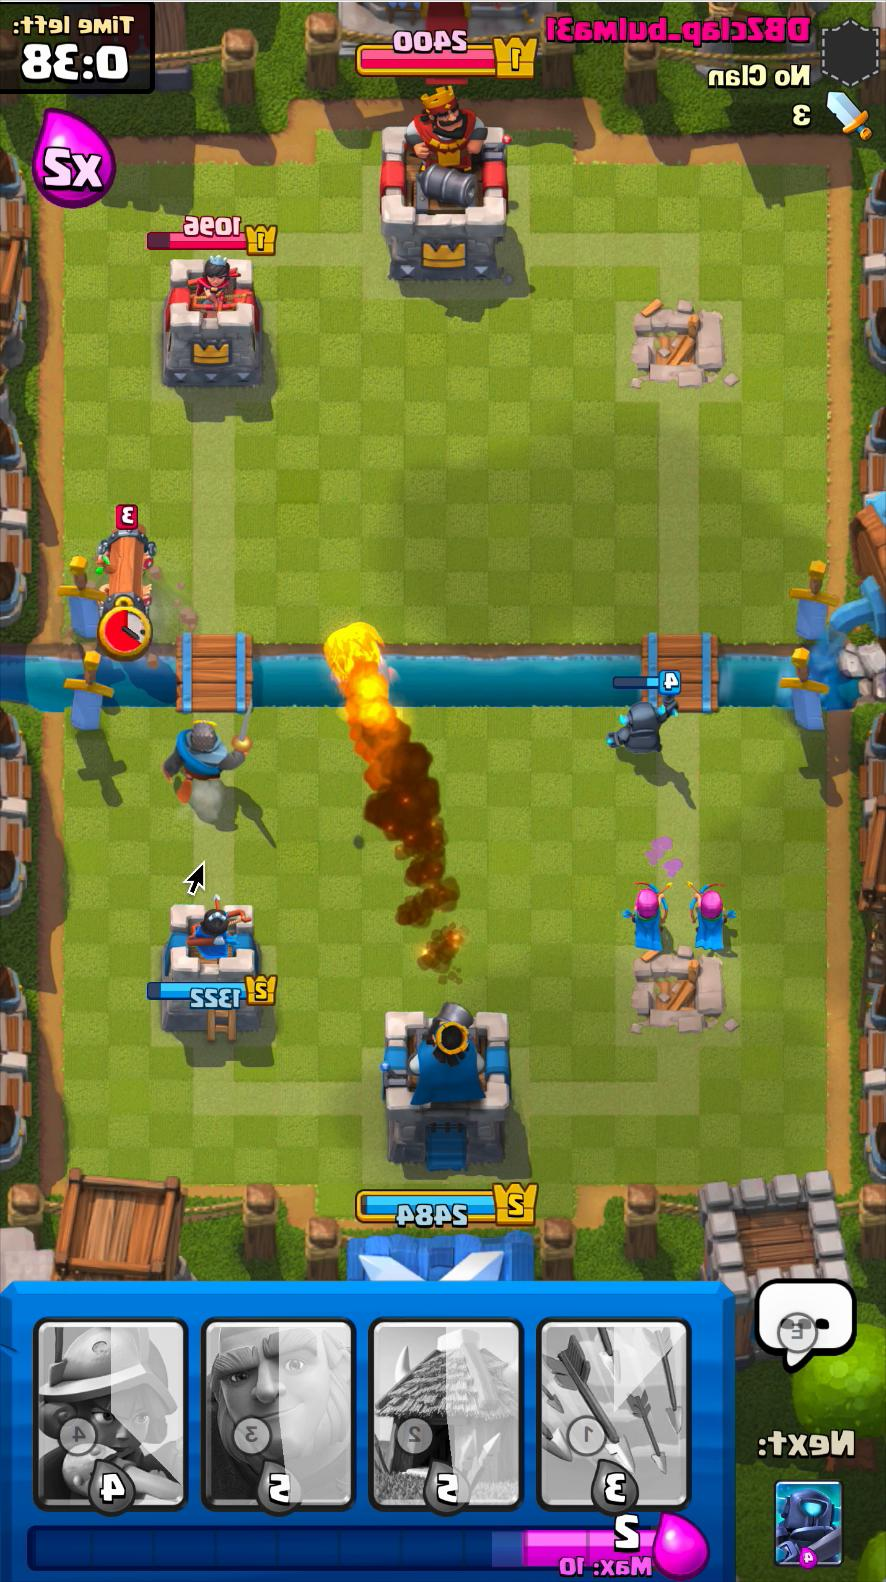archere: (619, 880, 679, 952), (685, 884, 737, 956)
chevalier: (164, 694, 259, 809)
mini_PEKKA: (596, 695, 688, 767)
